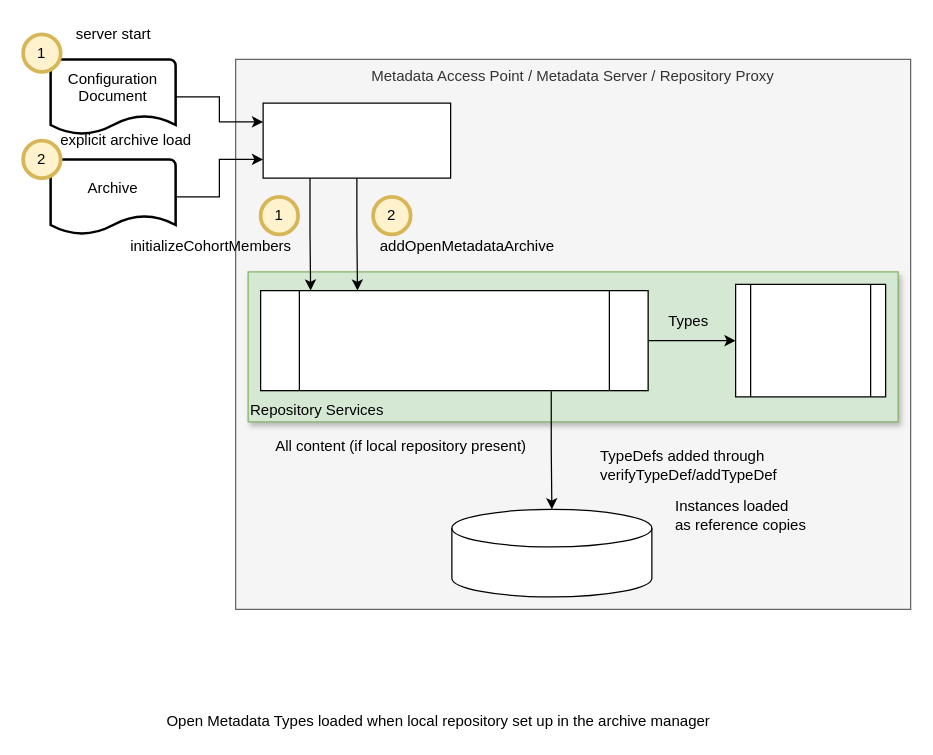
This 933x755 diagram has some shape labels left out. The centre of each missing label's shape, as x and y in pixels:
"Admin Services" goes at (x=356, y=140).
"Archive Manager" goes at (x=453, y=340).
"Local Repository" goes at (x=551, y=552).
"Repository Content Manager" goes at (x=810, y=340).
